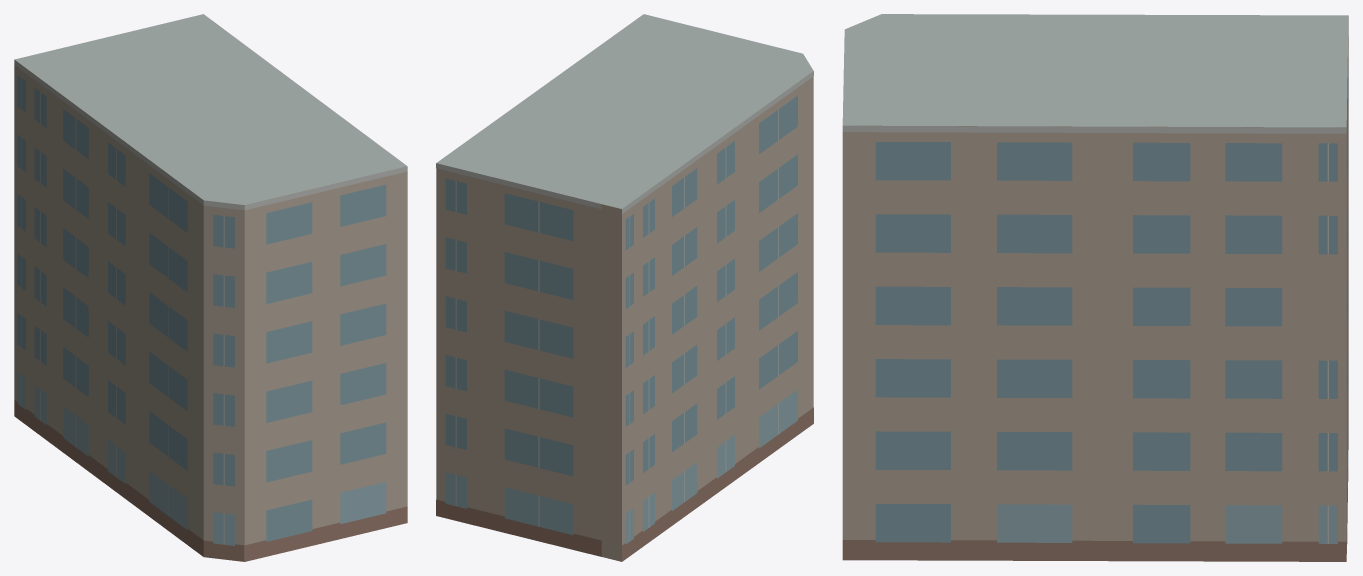
File: survey-upis-32565189.glb
3 renders of one model, left to right at view 1: azimuth 30°, elevation 25°; view 2: azimuth 150°, elevation 25°; view 3: azimuth 270°, elevation 25°, orthographic. The views are drawn at different scales.
Visible parts, largest first — view 1: survey-upis-32565189.tmp; view 2: survey-upis-32565189.tmp; view 3: survey-upis-32565189.tmp.
Part boxes in pixels (x1,y1,x2,y2): survey-upis-32565189.tmp: (14, 14, 407, 561); survey-upis-32565189.tmp: (436, 14, 813, 561); survey-upis-32565189.tmp: (842, 14, 1348, 561).
Size of the model in its own units: 9.3 by 16.6 by 17.52.
